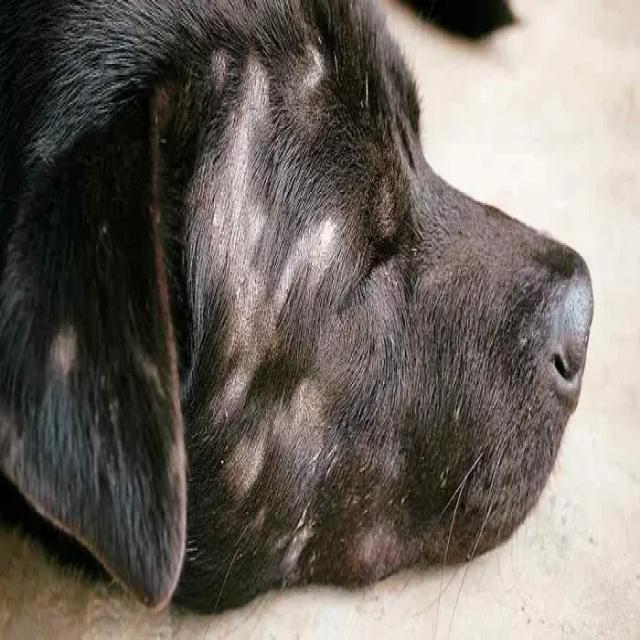cat-hairloss: (201, 61, 328, 514)
